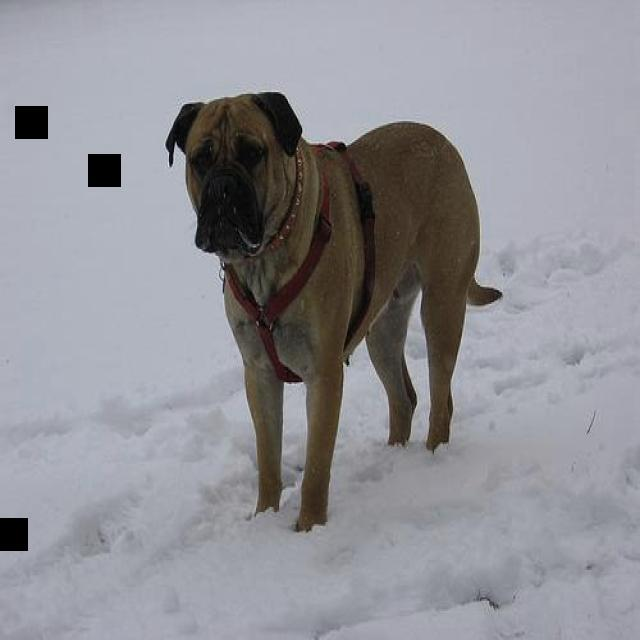adult_dog: (163, 90, 504, 533)
